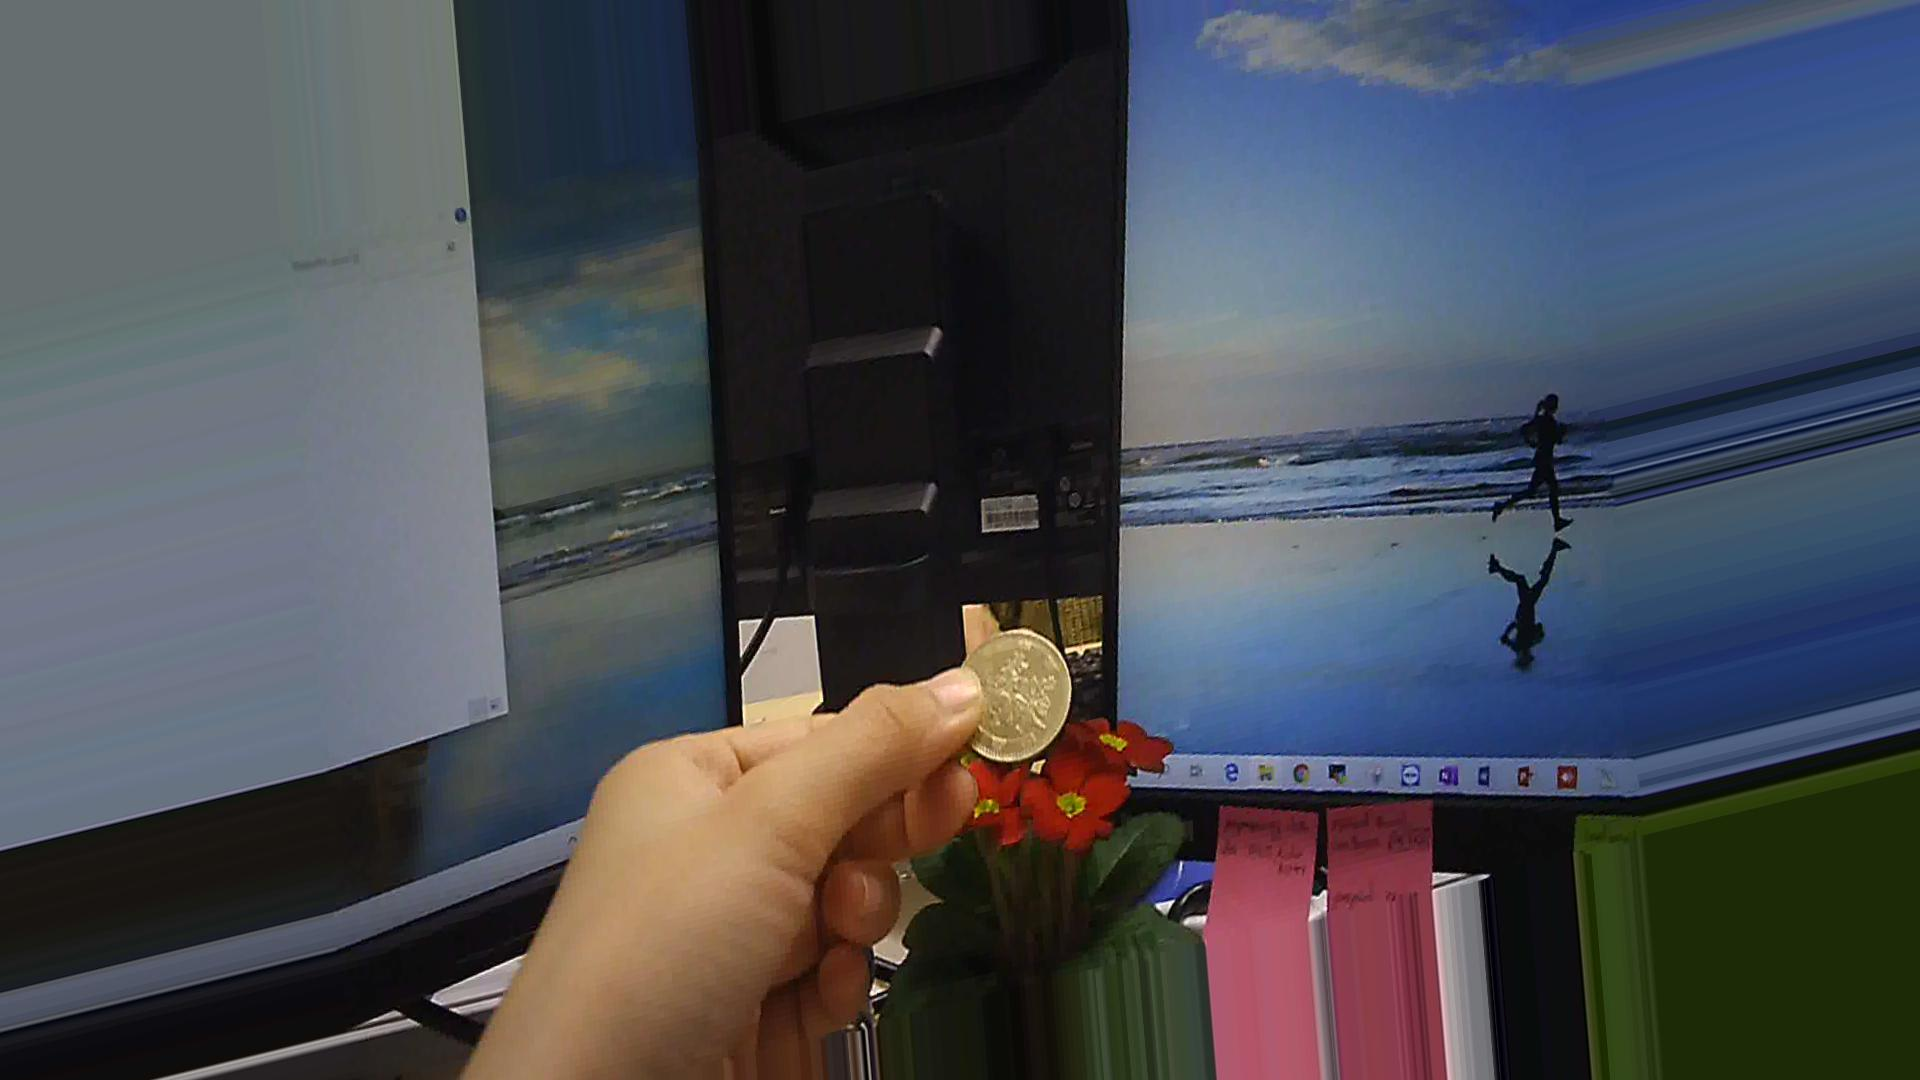500 Yen: (961, 633, 1083, 765)
